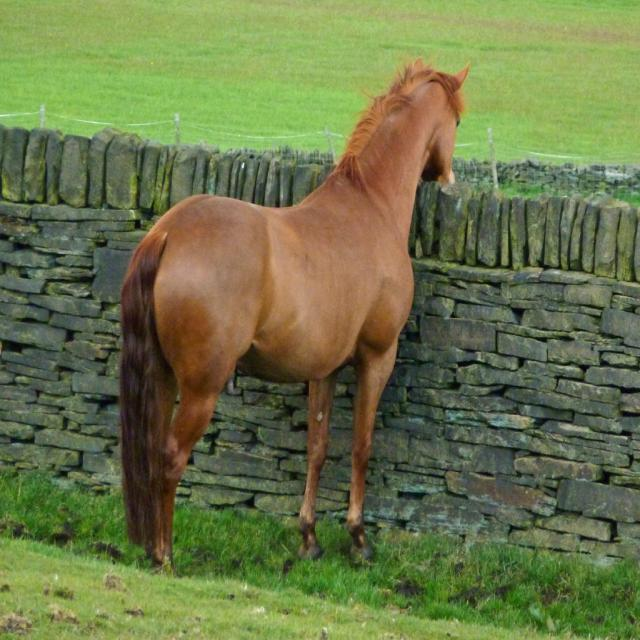Horse: (116, 52, 472, 574)
